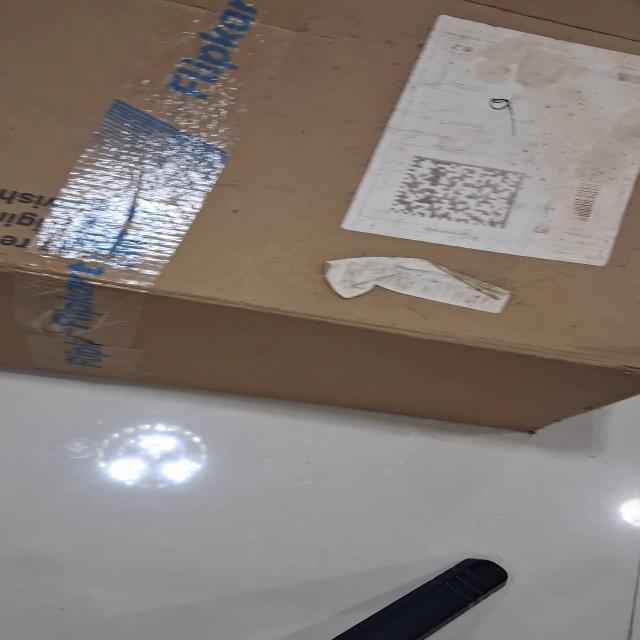paper: (338, 14, 639, 266), (322, 255, 512, 314)
